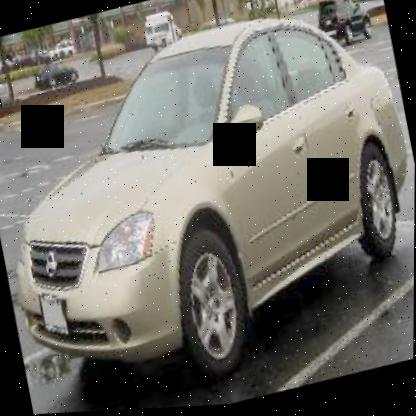not_emergency: (0, 0, 415, 383)
